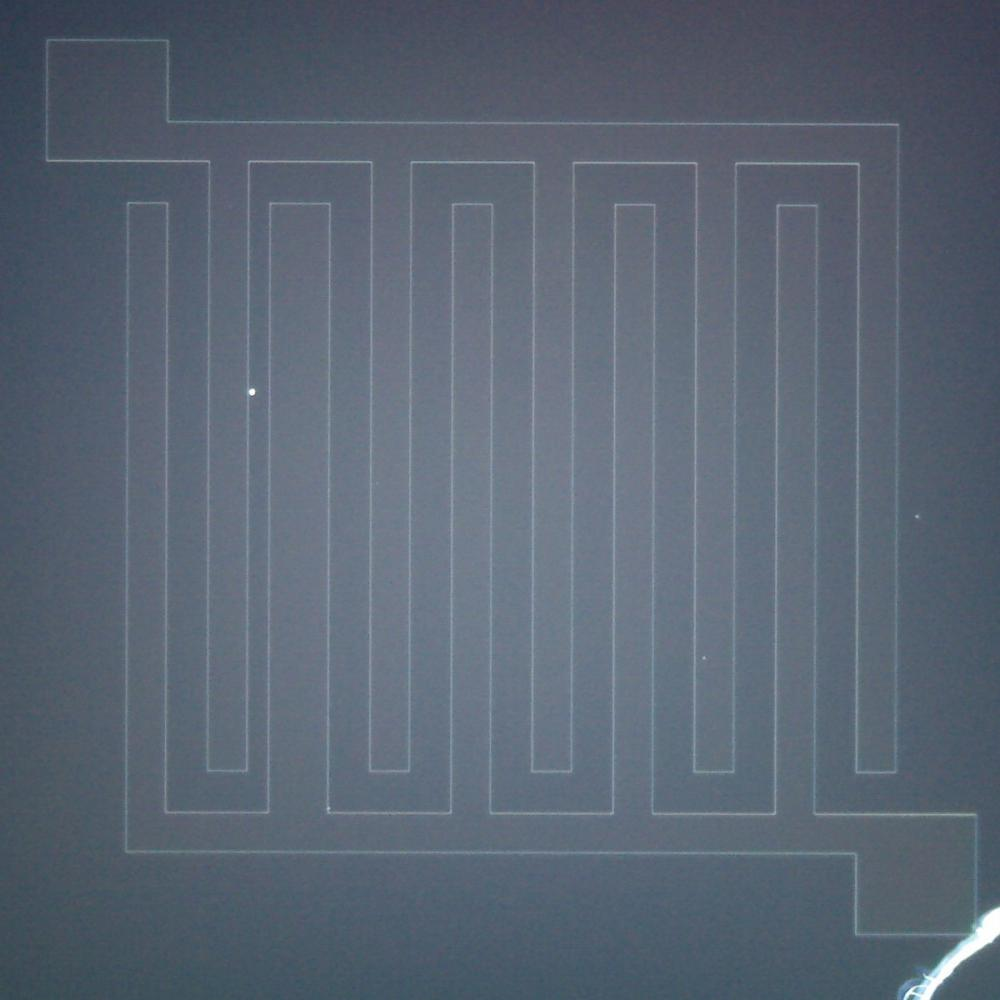curve: (978, 930, 1000, 952), (934, 957, 956, 979), (957, 939, 978, 962), (979, 907, 999, 930), (922, 980, 942, 999)
dot: (249, 388, 258, 396), (915, 514, 919, 518), (702, 656, 706, 660), (327, 806, 331, 810)
